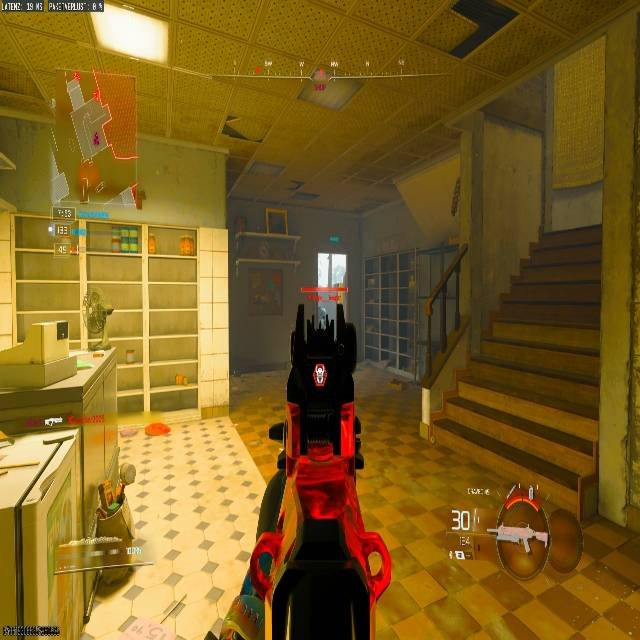player: (318, 304, 328, 327)
